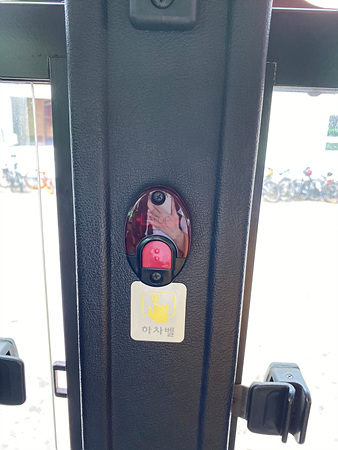bell: (124, 184, 192, 286)
